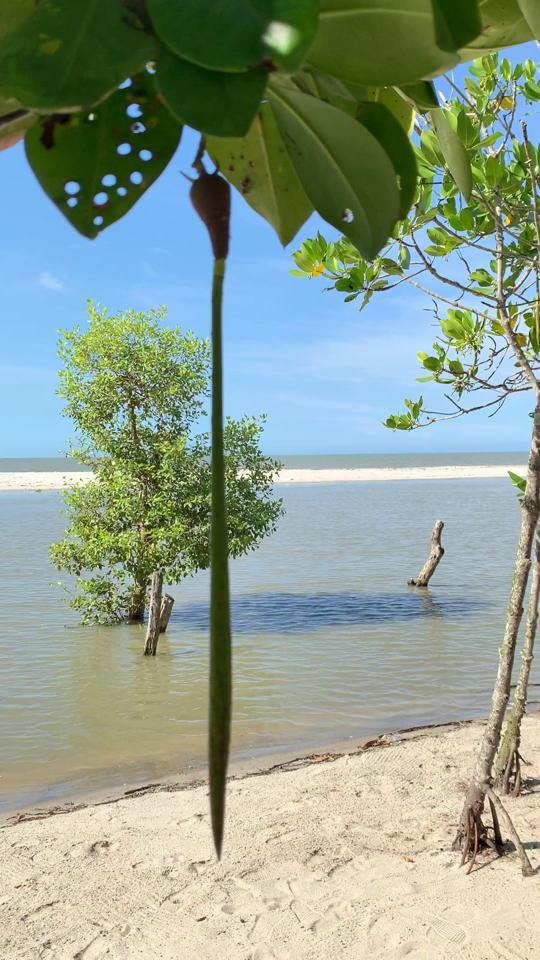setengah matang: (176, 151, 249, 869)
